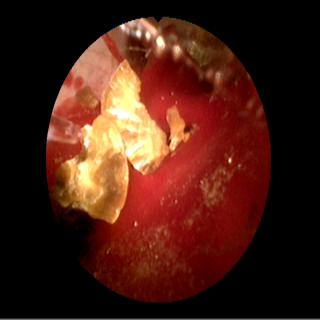stone: (55, 61, 190, 223), (183, 41, 219, 64), (74, 86, 98, 110)
tissue: (56, 22, 268, 297)
